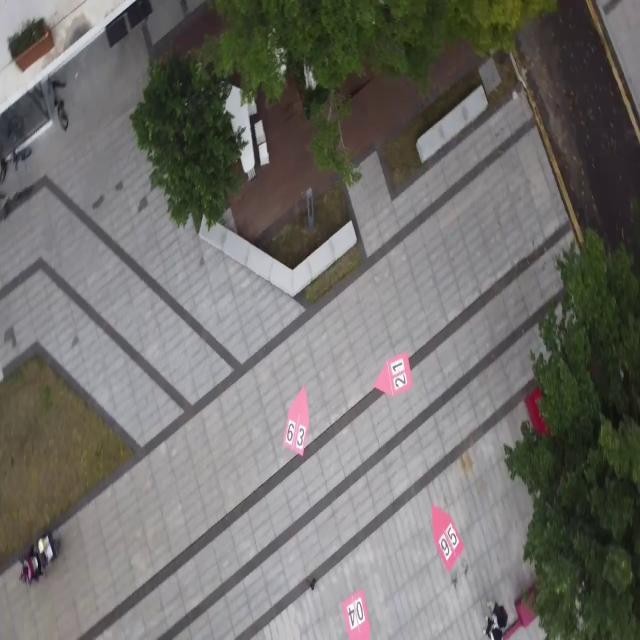-sign-: (432, 504, 464, 575), (373, 351, 414, 397), (284, 386, 310, 458), (342, 590, 371, 639)
